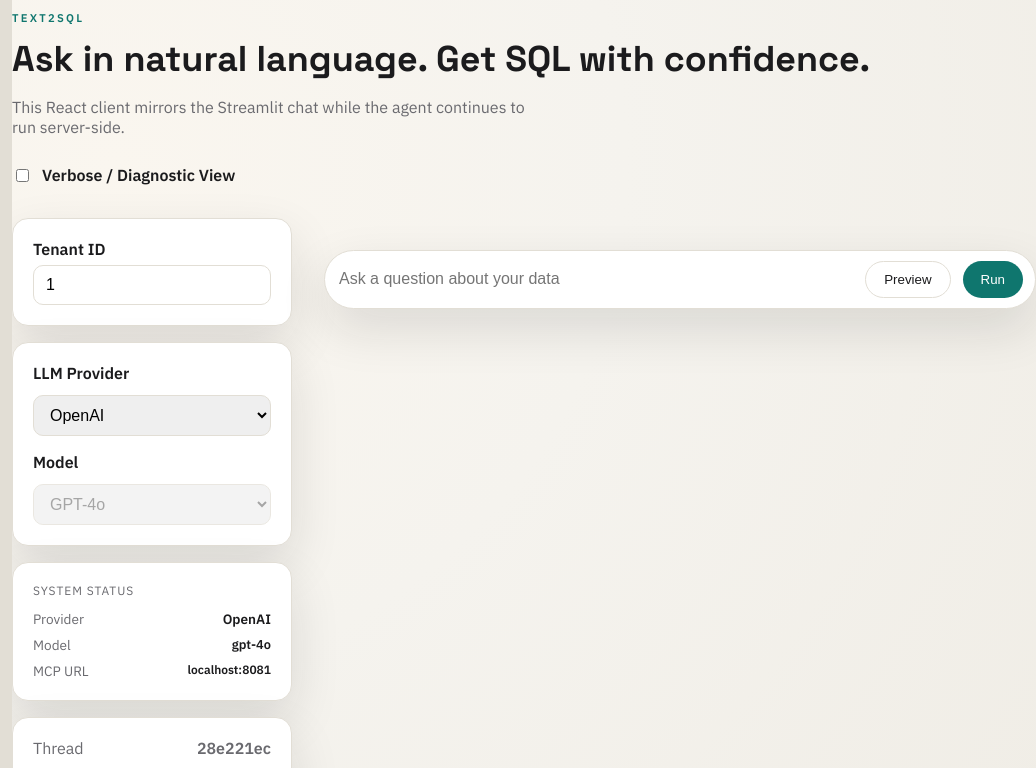
Test case: AgentChat pagination › clicking Load more appends rows
Type "paginated query" into the field with placeholder "Ask a question about your data" at [595, 279], box x1=337 y1=261 x2=853 y2=298
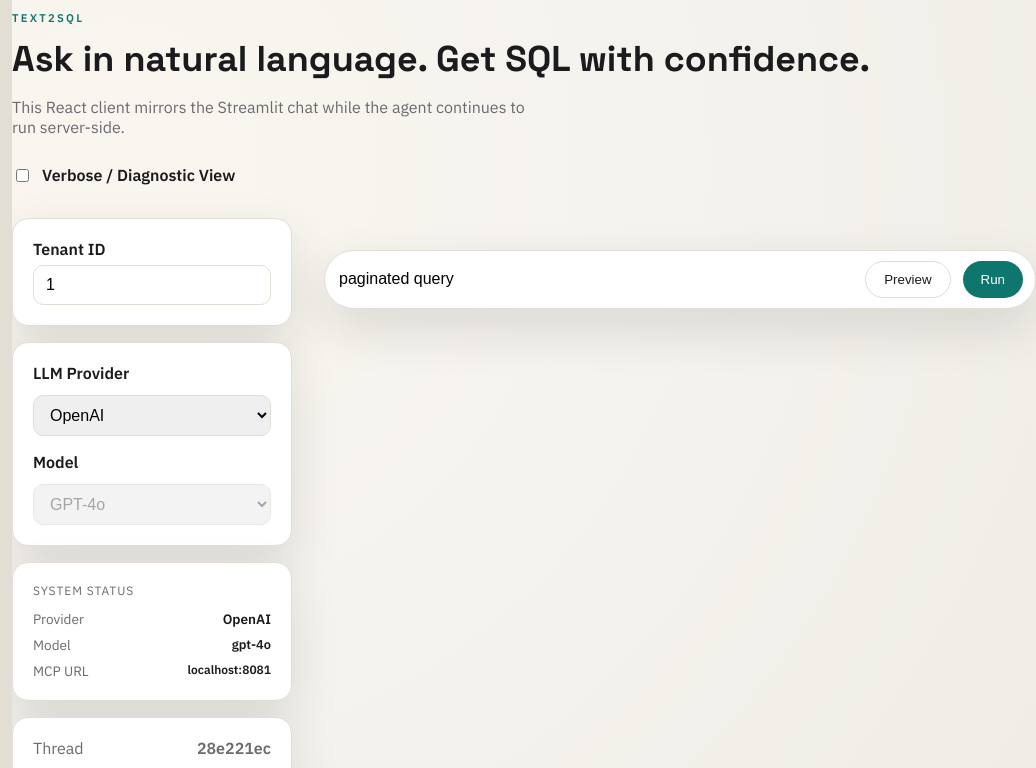
Submit the form with placeholder "ask a question", box x1=324 y1=250 x2=1035 y2=309
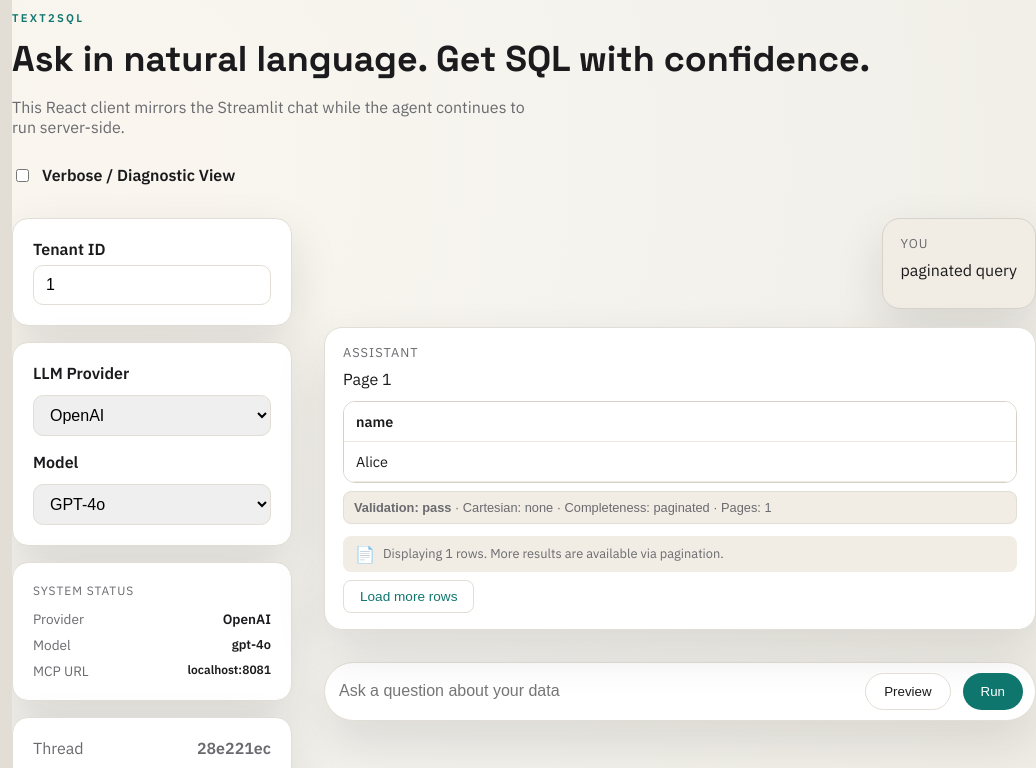
Now the button with test id "load-more-button" is shown
Click load more
Click the button with test id "load-more-button" at [409, 596], box x1=343 y1=580 x2=474 y2=613
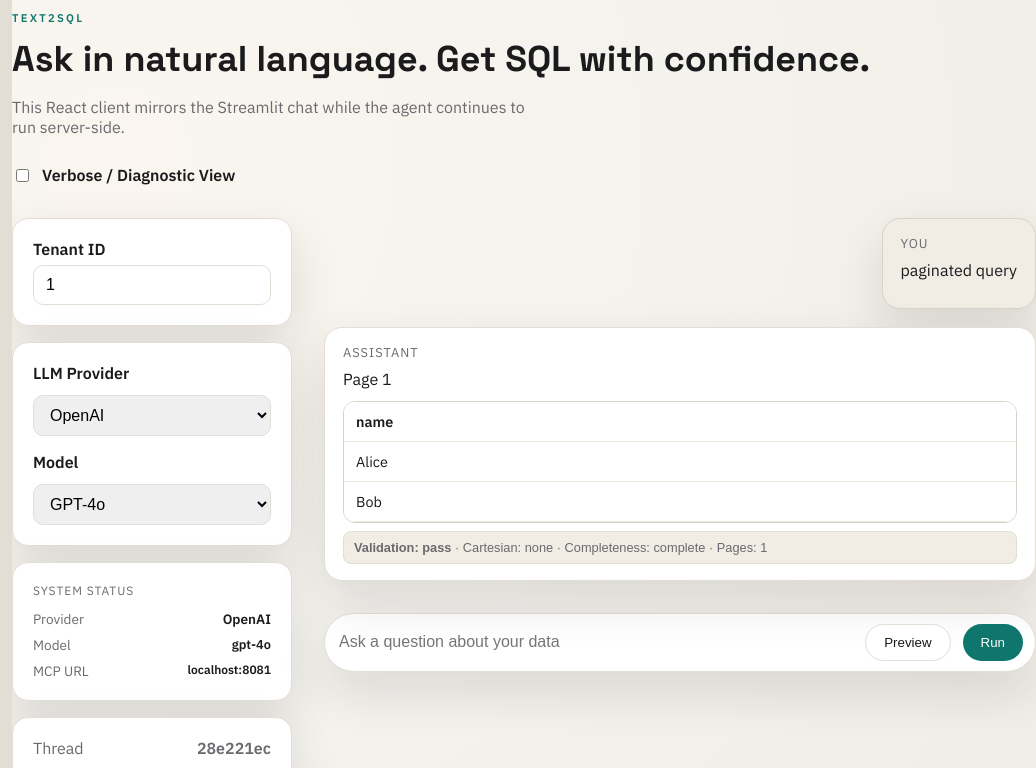
Now the text "Alice" is shown, box x1=344 y1=441 x2=1016 y2=481
Now the text "Bob" is shown, box x1=344 y1=481 x2=1016 y2=521
